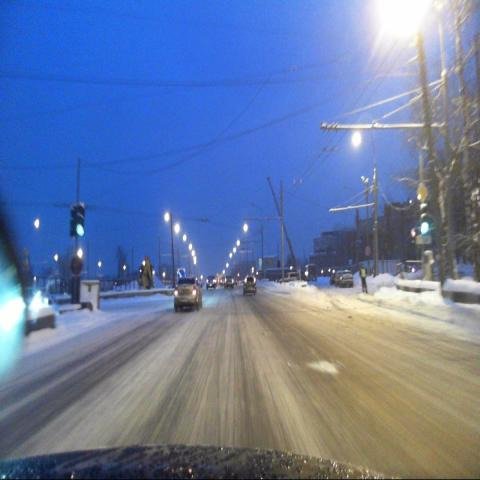2_1: (416, 183, 428, 204)
4_2_1: (176, 267, 186, 280)
